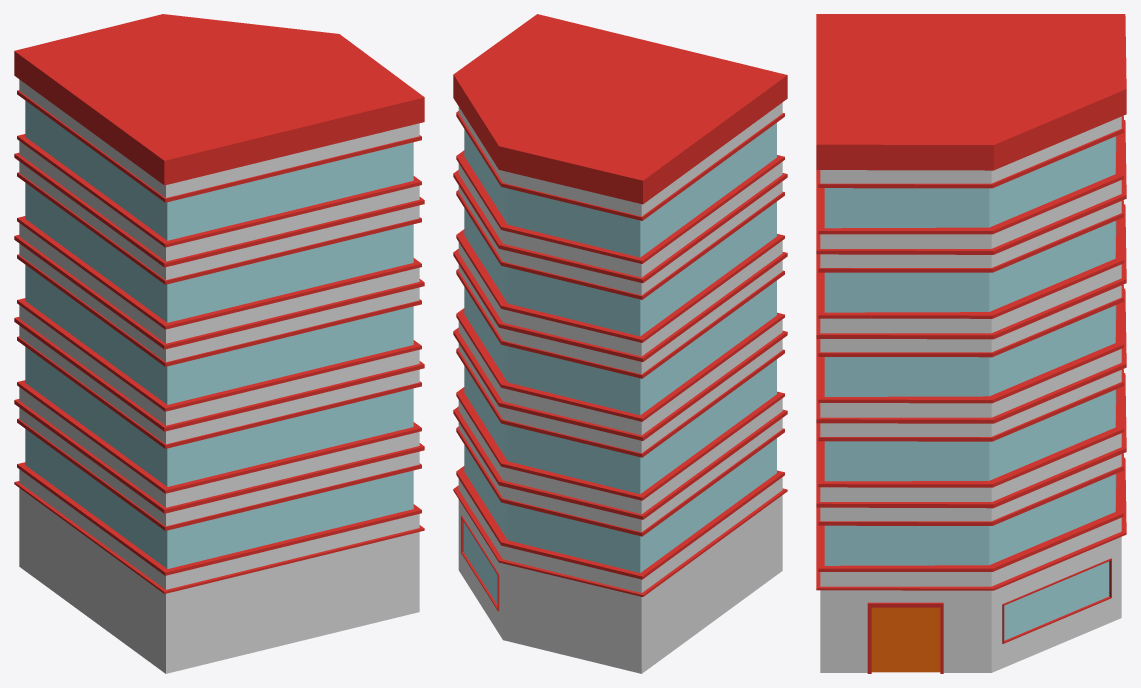
Rendered from Building 5.fbx.
The picture shows the model from 3 angles, left to right: view 1: azimuth 30°, elevation 25°; view 2: azimuth 150°, elevation 25°; view 3: azimuth 270°, elevation 25°; orthographic projection. The views are drawn at different scales.
Parts seen in each view (by area): view 1: Building 94; view 2: Building 94; view 3: Building 94.
Part boxes in pixels (left/top/right/bottom): Building 94: left=14, top=14, right=424, bottom=673; Building 94: left=453, top=14, right=787, bottom=673; Building 94: left=816, top=14, right=1126, bottom=673.
Bounding box in the file's own units: 1133 × 2135 × 1133.
